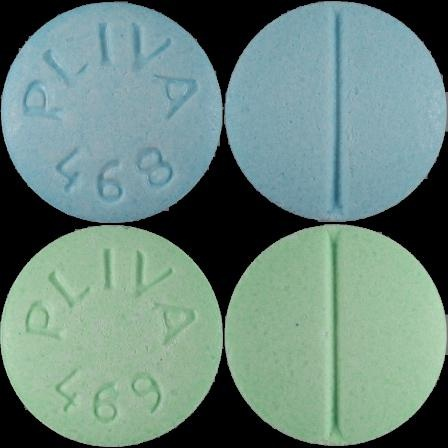69189-0468: (0, 0, 224, 224)
